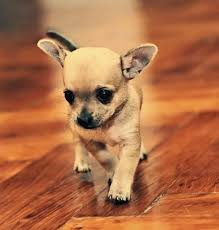chihuahua: (29, 27, 159, 211)
